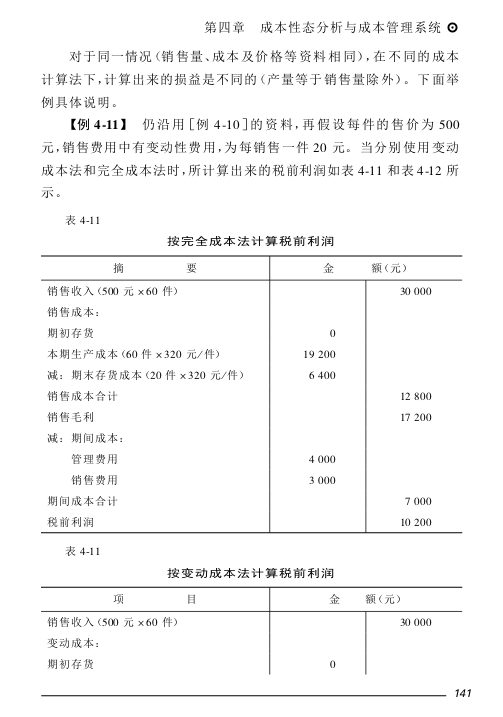table: (41, 255, 462, 534), (41, 586, 462, 674)
